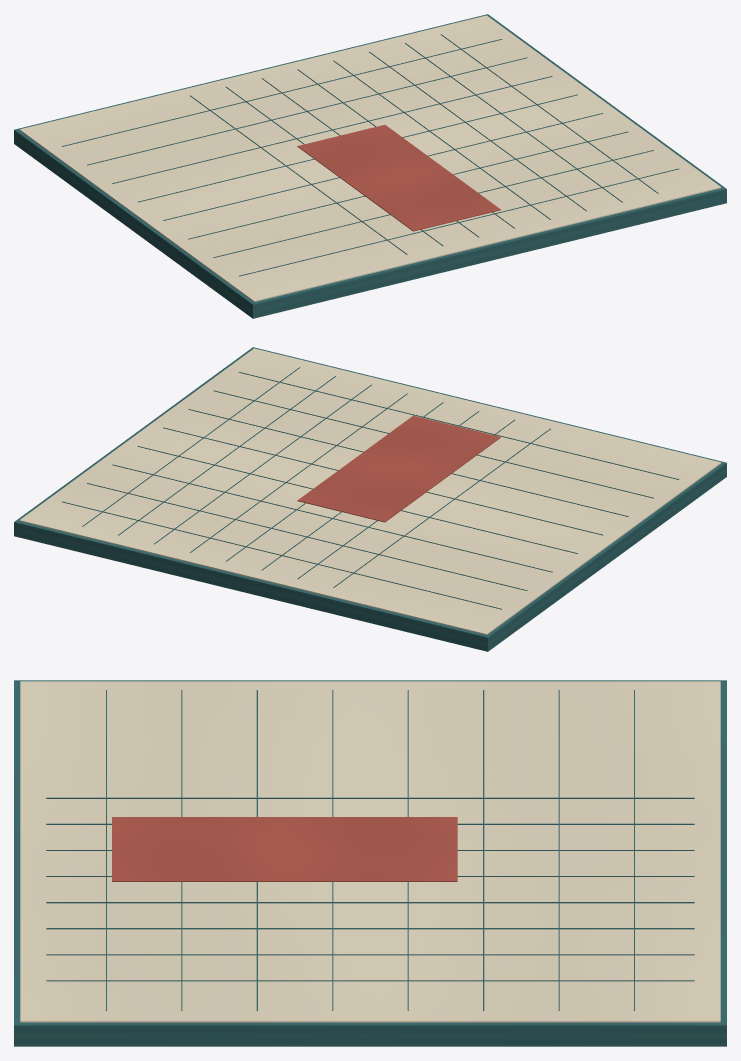
File: atlas100-s036-a07.lod1.glb
3 views of the same model, one above another, from view 1: azimuth 30°, elevation 25°; view 2: azimuth 150°, elevation 25°; view 3: azimuth 270°, elevation 25° (orthographic). The views are drawn at different scales.
Visible parts, largest first — view 1: atlas100-s036-a07:part-001, atlas100-s036-a07:part-000, atlas100-s036-a07:part-021, atlas100-s036-a07:part-020, atlas100-s036-a07:part-013, atlas100-s036-a07:part-014, atlas100-s036-a07:part-015, atlas100-s036-a07:part-019, atlas100-s036-a07:part-018, atlas100-s036-a07:part-017, atlas100-s036-a07:part-016; view 2: atlas100-s036-a07:part-001, atlas100-s036-a07:part-000, atlas100-s036-a07:part-021, atlas100-s036-a07:part-015, atlas100-s036-a07:part-013, atlas100-s036-a07:part-014, atlas100-s036-a07:part-020, atlas100-s036-a07:part-016, atlas100-s036-a07:part-018, atlas100-s036-a07:part-017, atlas100-s036-a07:part-019; view 3: atlas100-s036-a07:part-001, atlas100-s036-a07:part-000, atlas100-s036-a07:part-021, atlas100-s036-a07:part-005, atlas100-s036-a07:part-009, atlas100-s036-a07:part-010, atlas100-s036-a07:part-011, atlas100-s036-a07:part-012, atlas100-s036-a07:part-014, atlas100-s036-a07:part-015, atlas100-s036-a07:part-006.
Part boxes in pixels (x1,y1,x2,y2): atlas100-s036-a07:part-001: [19, 15, 721, 301]; atlas100-s036-a07:part-000: [14, 14, 726, 318]; atlas100-s036-a07:part-021: [297, 124, 500, 231]; atlas100-s036-a07:part-020: [239, 168, 678, 276]; atlas100-s036-a07:part-013: [62, 39, 502, 146]; atlas100-s036-a07:part-014: [87, 57, 527, 165]; atlas100-s036-a07:part-015: [112, 76, 552, 183]; atlas100-s036-a07:part-019: [213, 150, 653, 257]; atlas100-s036-a07:part-018: [188, 131, 628, 239]; atlas100-s036-a07:part-017: [163, 113, 603, 220]; atlas100-s036-a07:part-016: [138, 94, 577, 202]; atlas100-s036-a07:part-001: [19, 348, 721, 634]; atlas100-s036-a07:part-000: [14, 347, 726, 651]; atlas100-s036-a07:part-021: [297, 415, 500, 522]; atlas100-s036-a07:part-015: [112, 464, 552, 572]; atlas100-s036-a07:part-013: [62, 501, 501, 609]; atlas100-s036-a07:part-014: [87, 483, 527, 590]; atlas100-s036-a07:part-020: [238, 372, 678, 479]; atlas100-s036-a07:part-016: [137, 446, 577, 553]; atlas100-s036-a07:part-018: [188, 409, 628, 516]; atlas100-s036-a07:part-017: [163, 427, 602, 535]; atlas100-s036-a07:part-019: [213, 390, 653, 498]; atlas100-s036-a07:part-001: [20, 681, 720, 1022]; atlas100-s036-a07:part-000: [14, 680, 726, 1046]; atlas100-s036-a07:part-021: [112, 817, 457, 881]; atlas100-s036-a07:part-005: [46, 797, 694, 798]; atlas100-s036-a07:part-009: [46, 902, 694, 903]; atlas100-s036-a07:part-010: [46, 928, 694, 929]; atlas100-s036-a07:part-011: [46, 954, 694, 955]; atlas100-s036-a07:part-012: [46, 980, 694, 981]; atlas100-s036-a07:part-014: [558, 690, 559, 1010]; atlas100-s036-a07:part-015: [483, 690, 484, 1010]; atlas100-s036-a07:part-006: [46, 823, 694, 824].
Bounding box in the file's own units: 11.9 × 0.404 × 10.4.
Materials: 3 (3 with a texture image).
